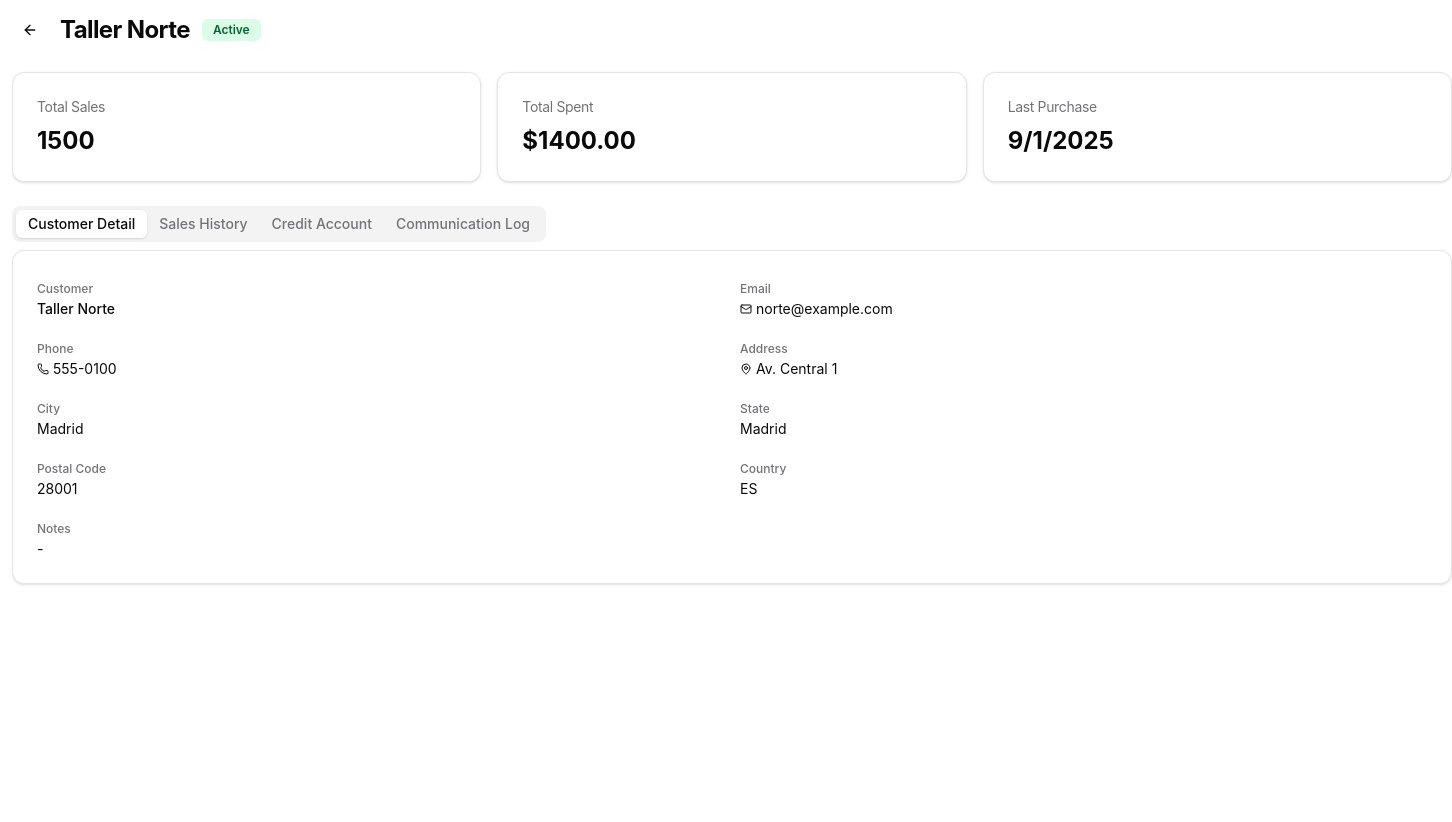
CustomerDetailPage › communication log › appends the new entry to the log without refetching it
Click the tab "Communication Log".
click(463, 224)  # box [384, 210, 542, 238]
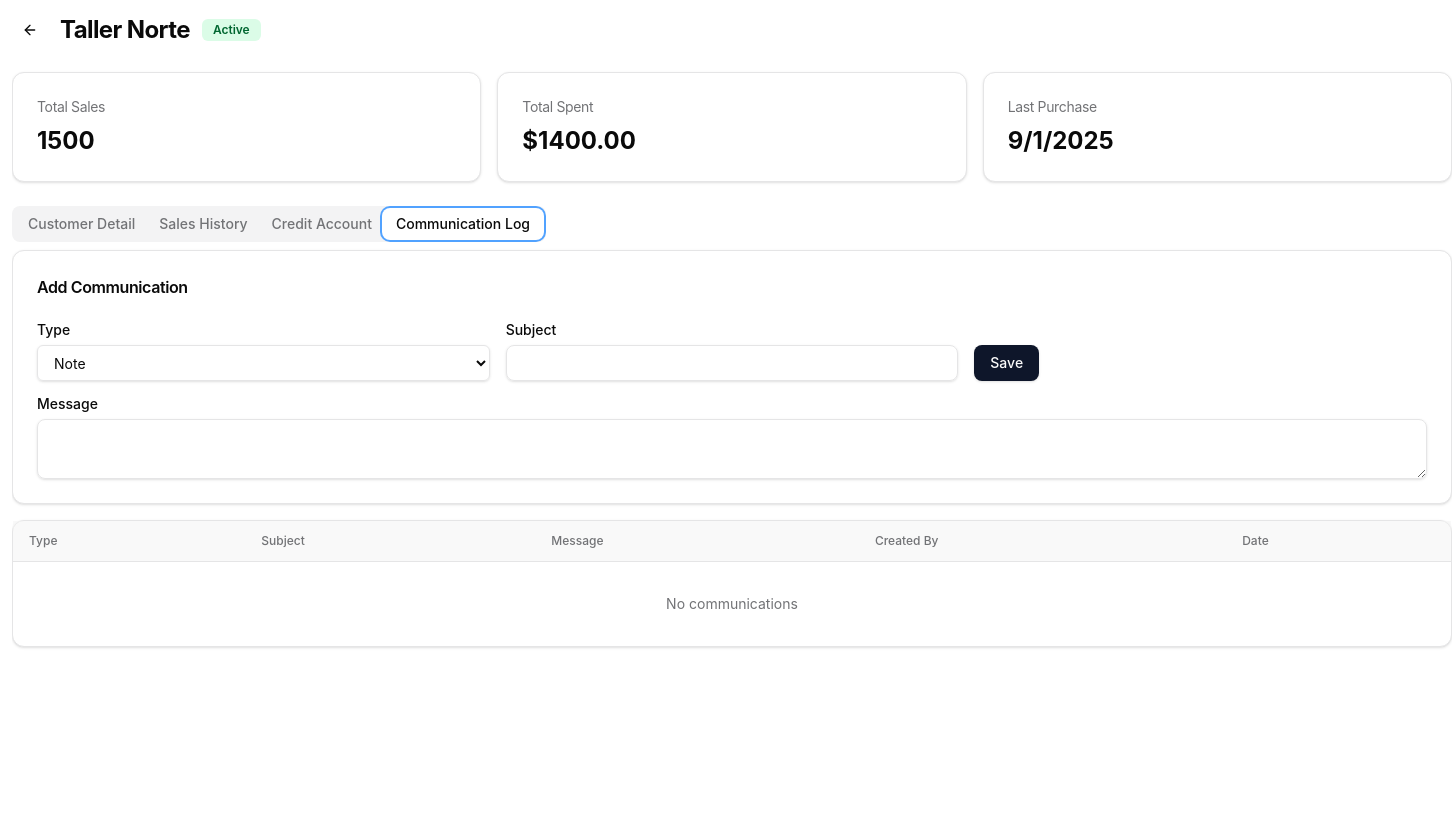
Expected: the panel is shown, [12, 250, 1451, 647]
Type "Presupuesto enviado" into the field labelled "Subject".
click(732, 363); type("Presupuesto enviado")  # box [506, 345, 958, 381]
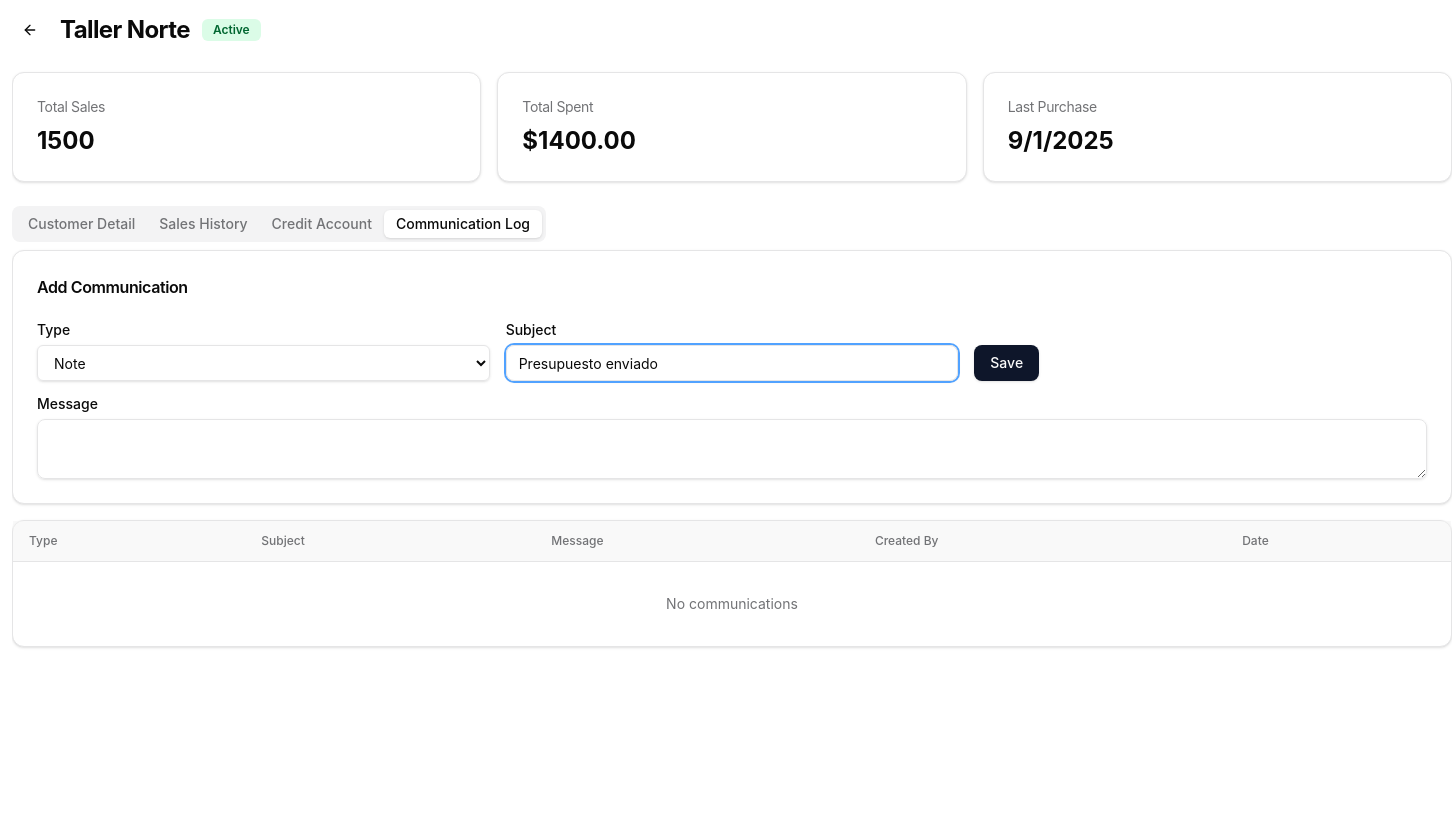
Click the button "Save".
click(1007, 363)  # box [974, 345, 1039, 381]
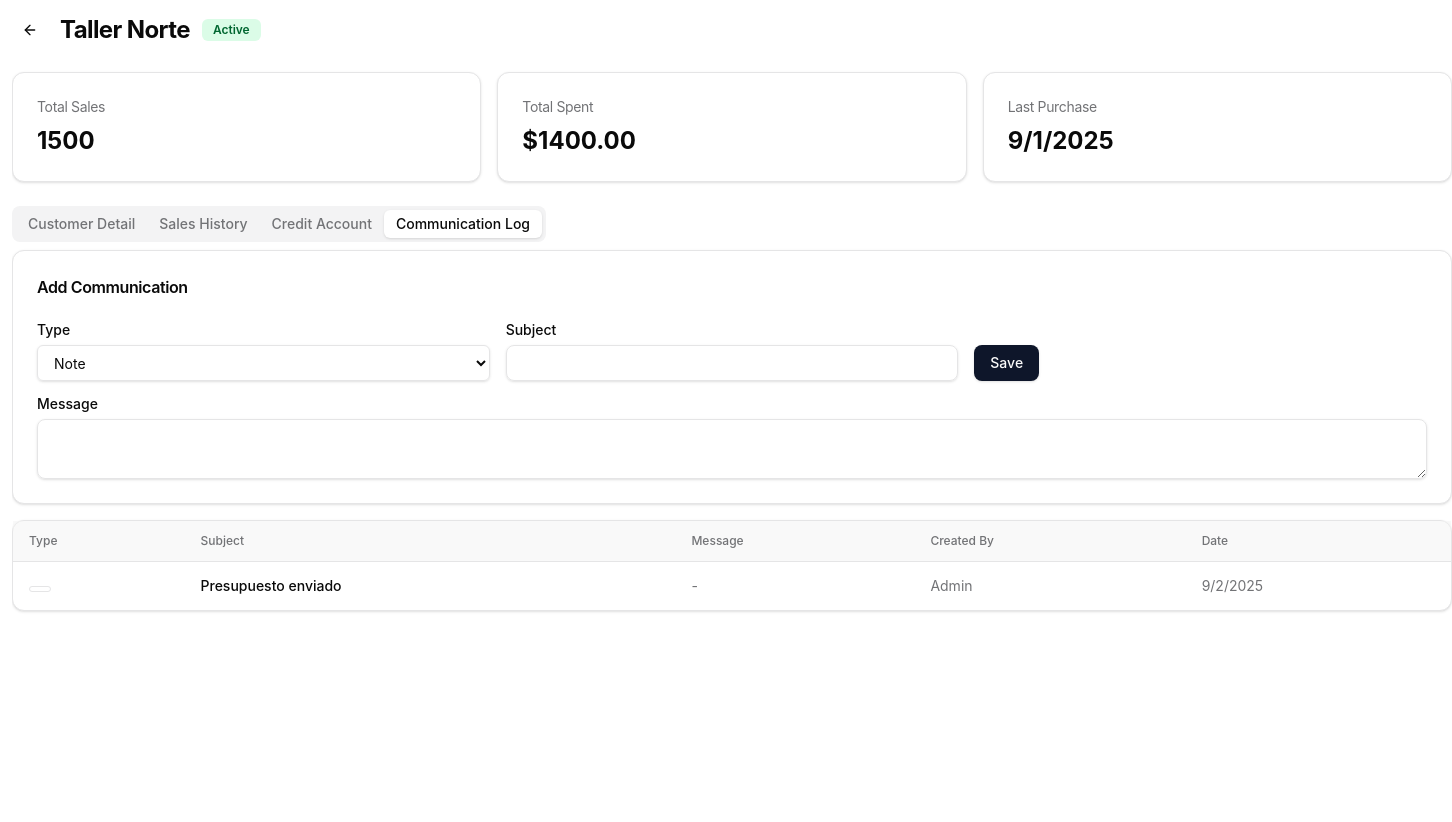
Expected: the text "Presupuesto enviado" is shown, [184, 562, 675, 610]
